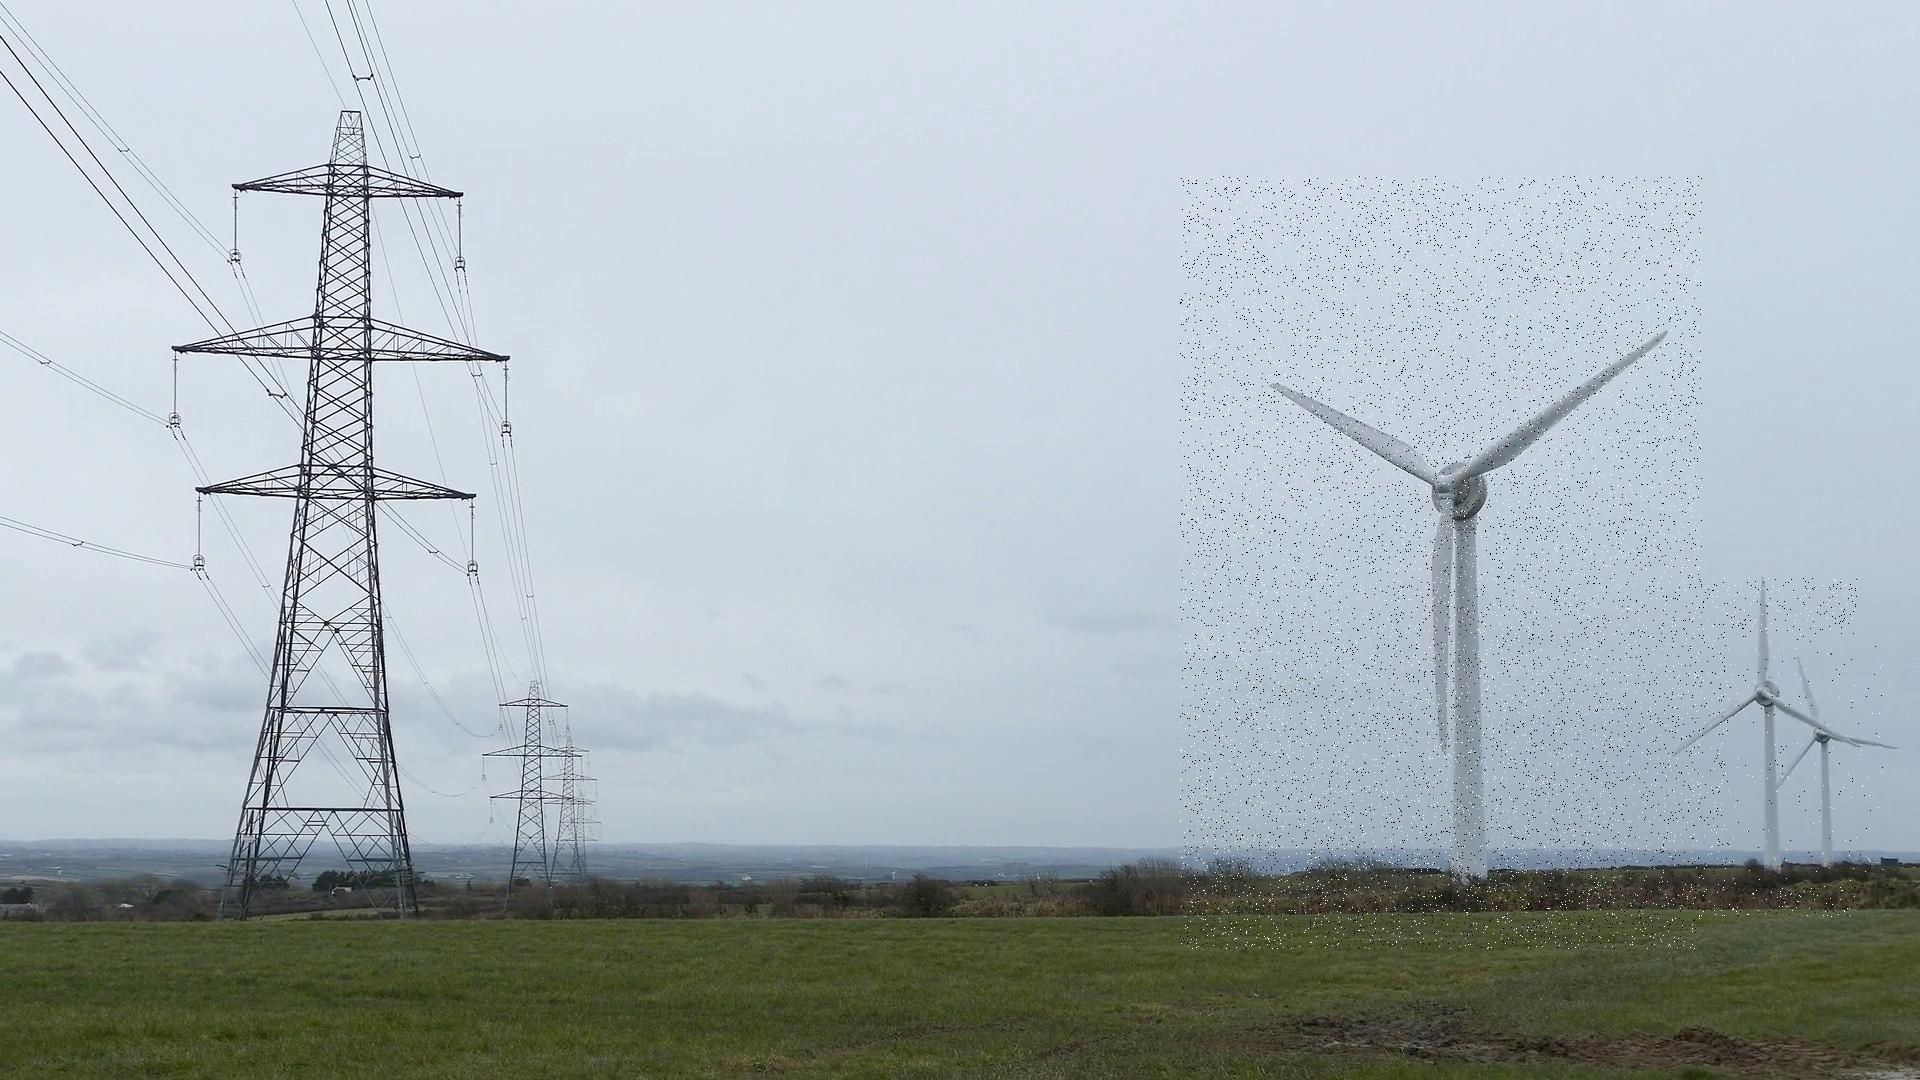cable tower: (162, 105, 514, 924), (481, 679, 583, 915), (541, 735, 597, 890), (559, 794, 600, 886)
turbine: (1180, 175, 1702, 949), (1627, 579, 1857, 918), (1727, 633, 1883, 887)
